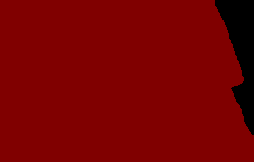Sky: (1, 1, 253, 161)
